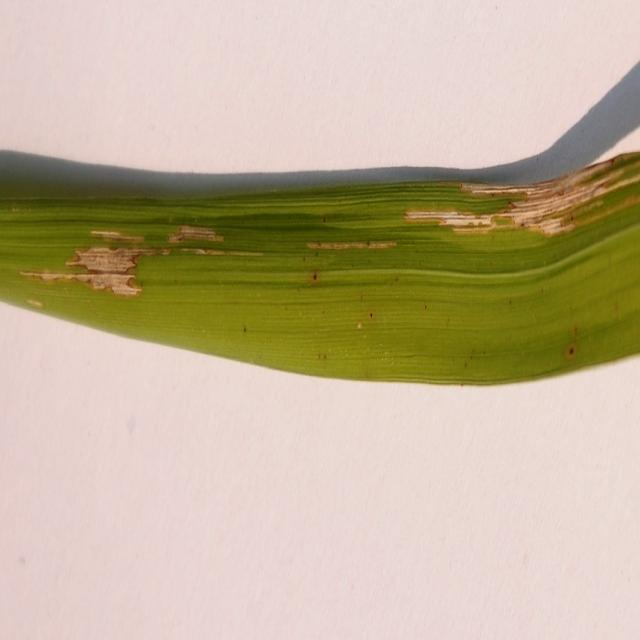Unhealthy: (404, 151, 640, 238), (20, 246, 171, 297), (306, 239, 397, 251), (168, 227, 224, 244), (91, 230, 145, 244), (182, 247, 264, 256), (566, 343, 576, 361), (311, 269, 319, 284), (28, 299, 43, 306), (369, 310, 374, 322), (614, 299, 618, 311), (357, 321, 362, 329), (322, 216, 327, 223), (424, 302, 427, 312), (541, 286, 544, 294), (297, 286, 300, 294), (509, 299, 512, 306), (575, 326, 577, 334), (412, 240, 415, 245), (396, 276, 398, 283), (316, 251, 318, 257), (244, 326, 246, 332), (323, 310, 325, 316), (324, 355, 326, 360), (506, 339, 508, 344), (141, 282, 143, 287), (303, 258, 305, 262), (419, 262, 421, 266), (133, 316, 134, 323), (319, 354, 320, 359), (361, 294, 362, 299), (484, 351, 485, 356), (471, 355, 472, 360), (465, 363, 466, 367)
